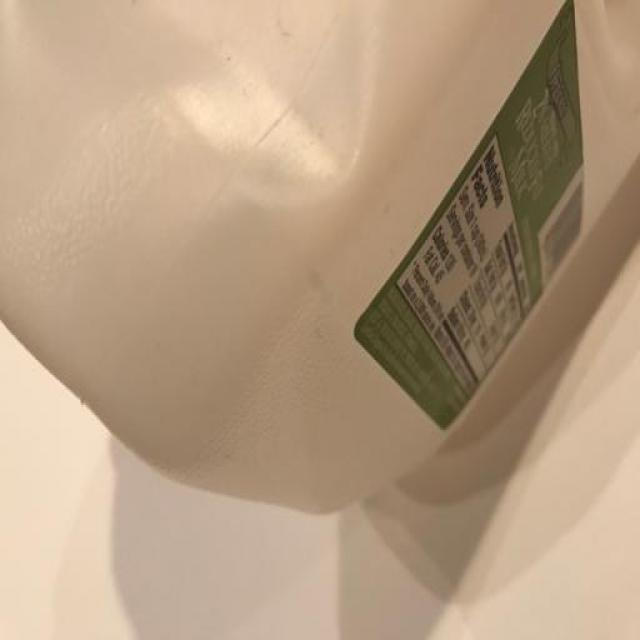Waste: (1, 2, 640, 512)
